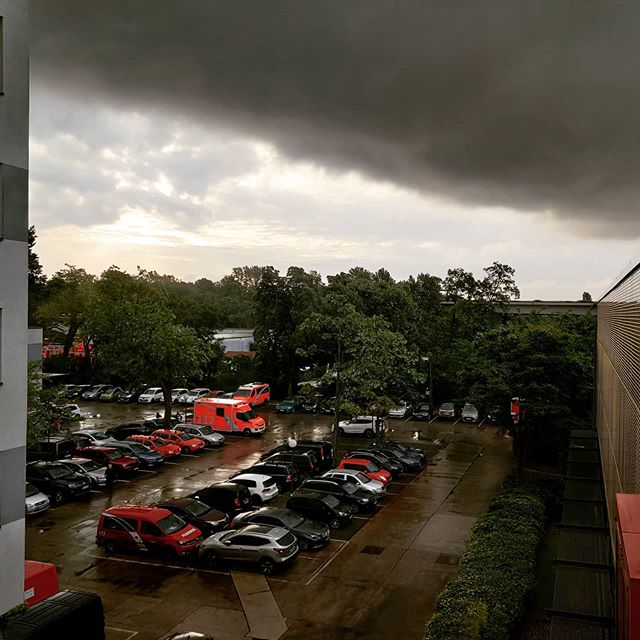ambulance: (191, 395, 267, 440)
car: (93, 505, 195, 567), (204, 521, 307, 579), (236, 500, 330, 552), (281, 485, 355, 539)
sky: (36, 1, 640, 264)
vegetation: (37, 261, 595, 417)
